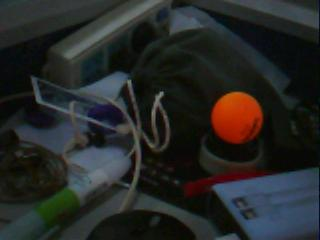oball: (210, 91, 263, 144)
